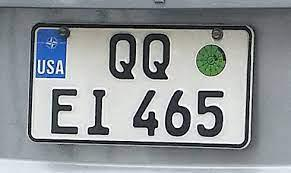4: (130, 86, 160, 137)
5: (194, 88, 227, 139)
6: (163, 86, 193, 139)
E: (48, 86, 81, 136)
I: (86, 87, 111, 137)
Q: (140, 30, 173, 84), (106, 31, 138, 83)
